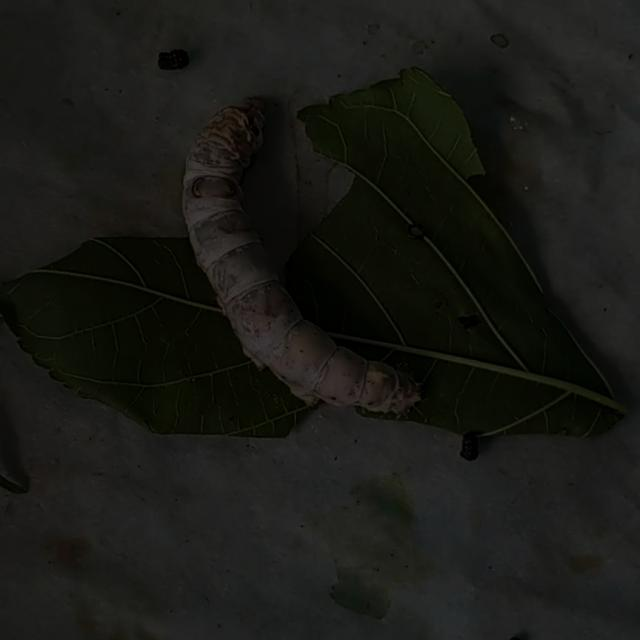Grasserie: (172, 88, 427, 428)
